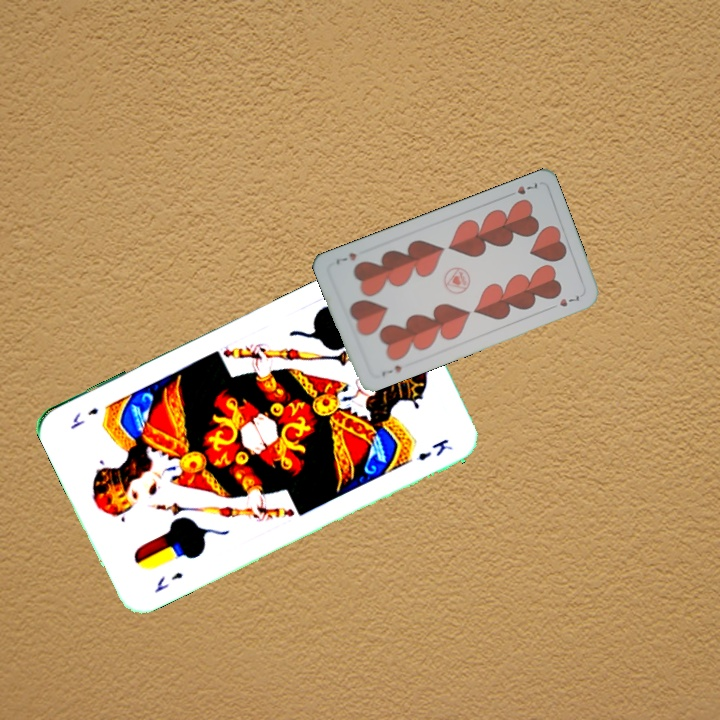EK: (150, 567, 186, 596)
H7: (503, 178, 540, 200), (378, 361, 404, 379)
